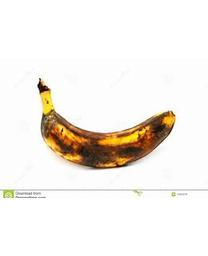banana: (36, 76, 178, 171)
